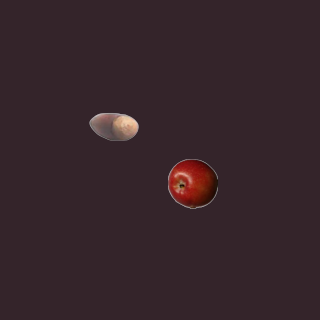Apple Braeburn: (167, 158, 217, 208)
Hazelnut: (88, 101, 138, 151)
